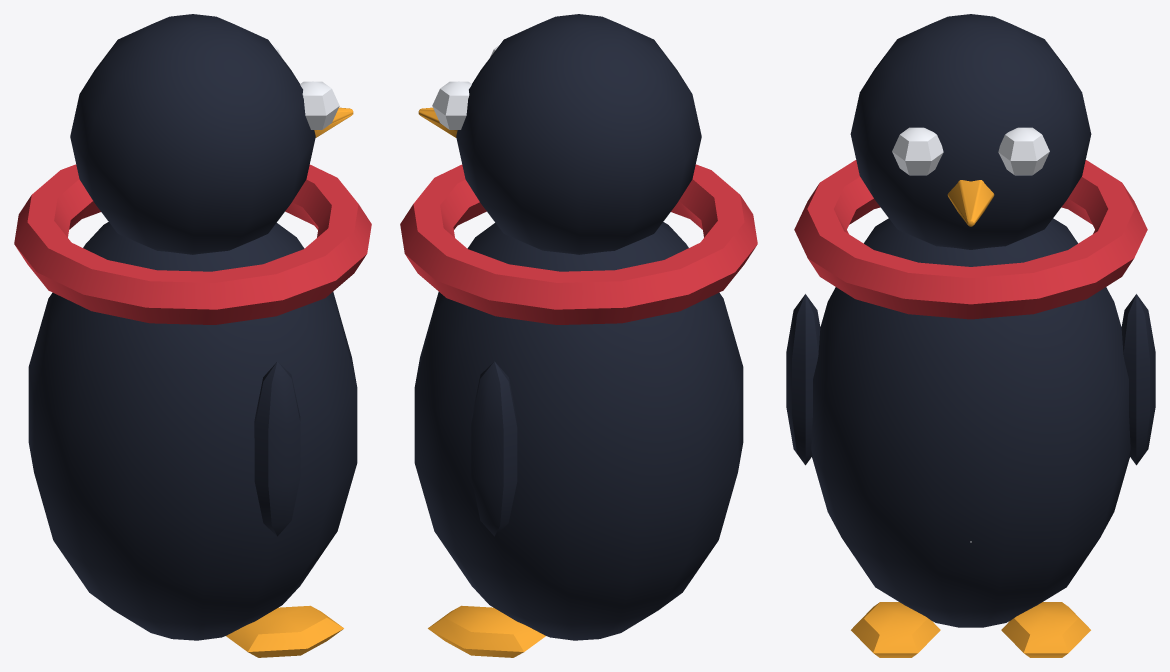
File: MidIce.fbx
The picture shows the model from 3 angles, left to right: view 1: azimuth 30°, elevation 25°; view 2: azimuth 150°, elevation 25°; view 3: azimuth 270°, elevation 25°; orthographic projection. The views are drawn at different scales.
Parts seen in each view (by area): view 1: MidIce; view 2: MidIce; view 3: MidIce.
Boxes of the visible parts, x1=… form: MidIce: x1=14, y1=14, x2=371, y2=657; MidIce: x1=400, y1=14, x2=757, y2=657; MidIce: x1=786, y1=14, x2=1155, y2=657.
Size of the model in its own units: 238 by 437 by 246.
